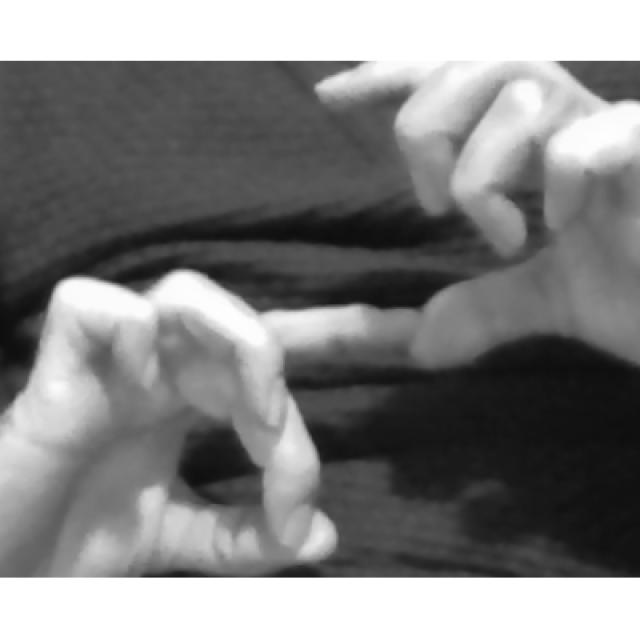S_: (0, 62, 640, 577)
